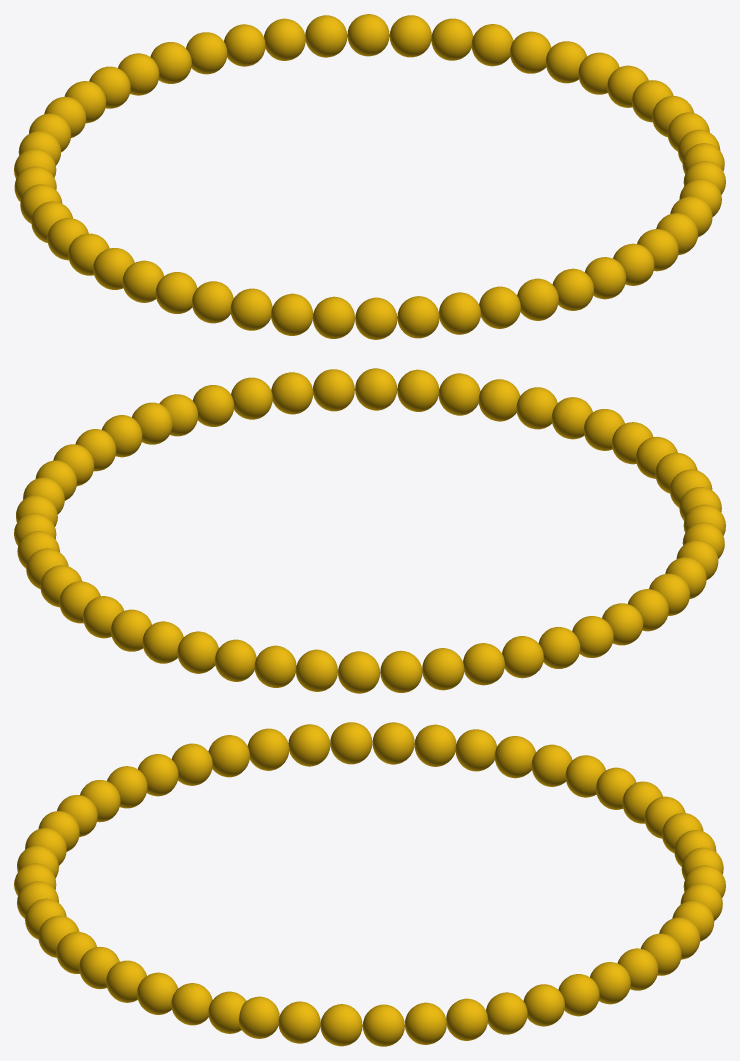
The model's file is bracelet_noCurve.fbx.
3 views of the same model, one above another, from view 1: azimuth 30°, elevation 25°; view 2: azimuth 150°, elevation 25°; view 3: azimuth 270°, elevation 25° (orthographic).
Parts seen in each view (by area): view 1: Sphere; view 2: Sphere; view 3: Sphere.
Part boxes in pixels (<box>): Sphere: <box>14,14,725,339</box>; Sphere: <box>14,368,725,693</box>; Sphere: <box>14,722,725,1046</box>.
Size of the model in its own units: 212 by 12.62 by 213.
